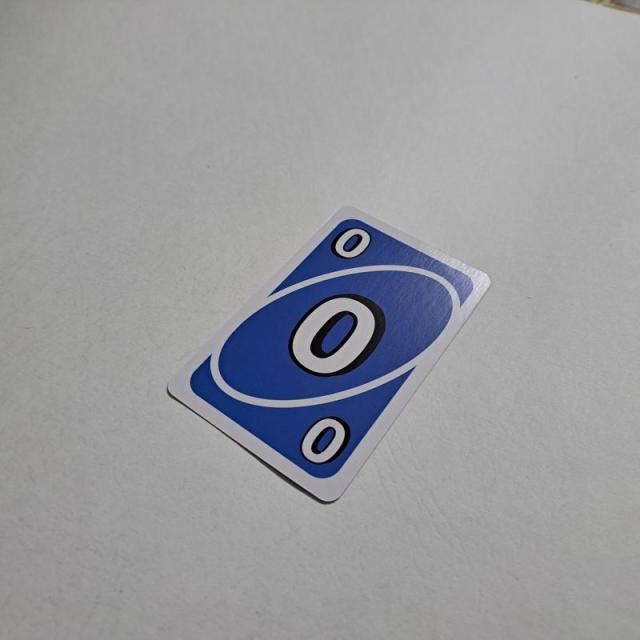Blue_Card: (185, 215, 479, 482)
Number_0: (328, 223, 375, 260)
